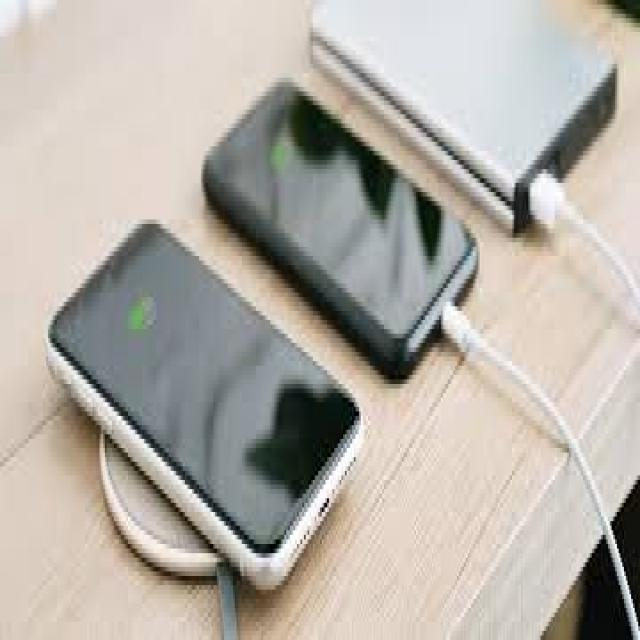power_bank: (302, 0, 626, 274)
